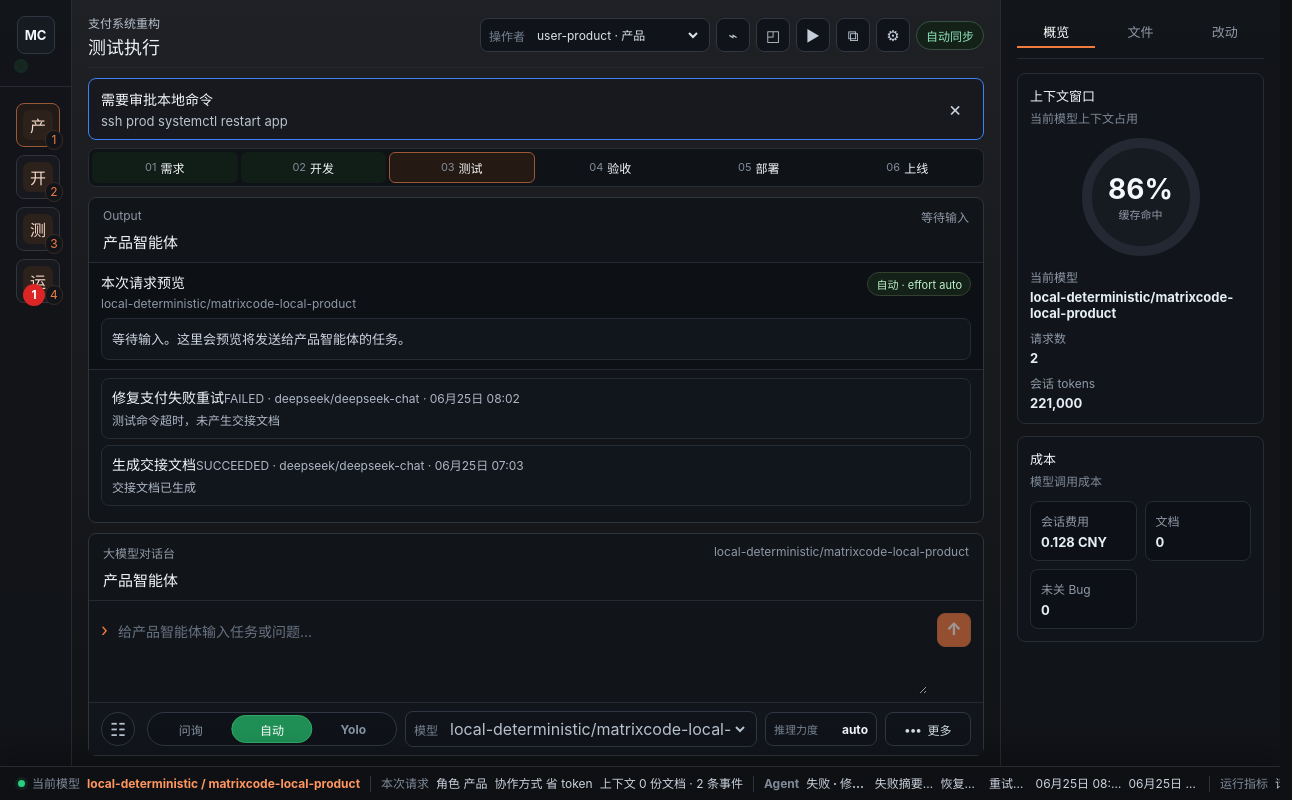
Test: MatrixCode 桌面工作台 › 底部Composer模型请求失败时输出台标题显示请求失败
Check: the text "支付系统重构" is shown, box [88,16,160,33]
Type "请输出实时计划" into the text box named "Agent 对话输入".
click(522, 653); type("请输出实时计划")  # box [118,613,927,694]
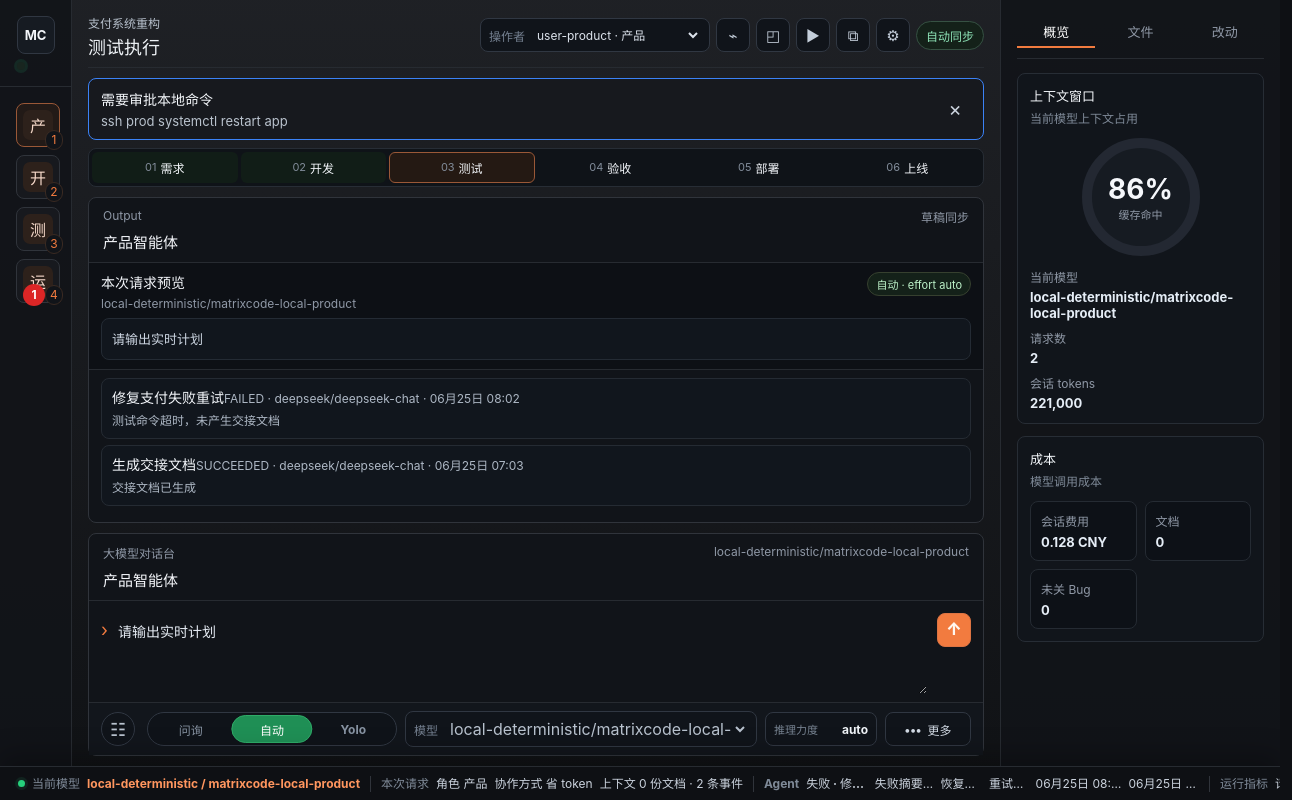
Click the button named "发送给角色智能体".
click(954, 630)  # box [937,613,971,647]
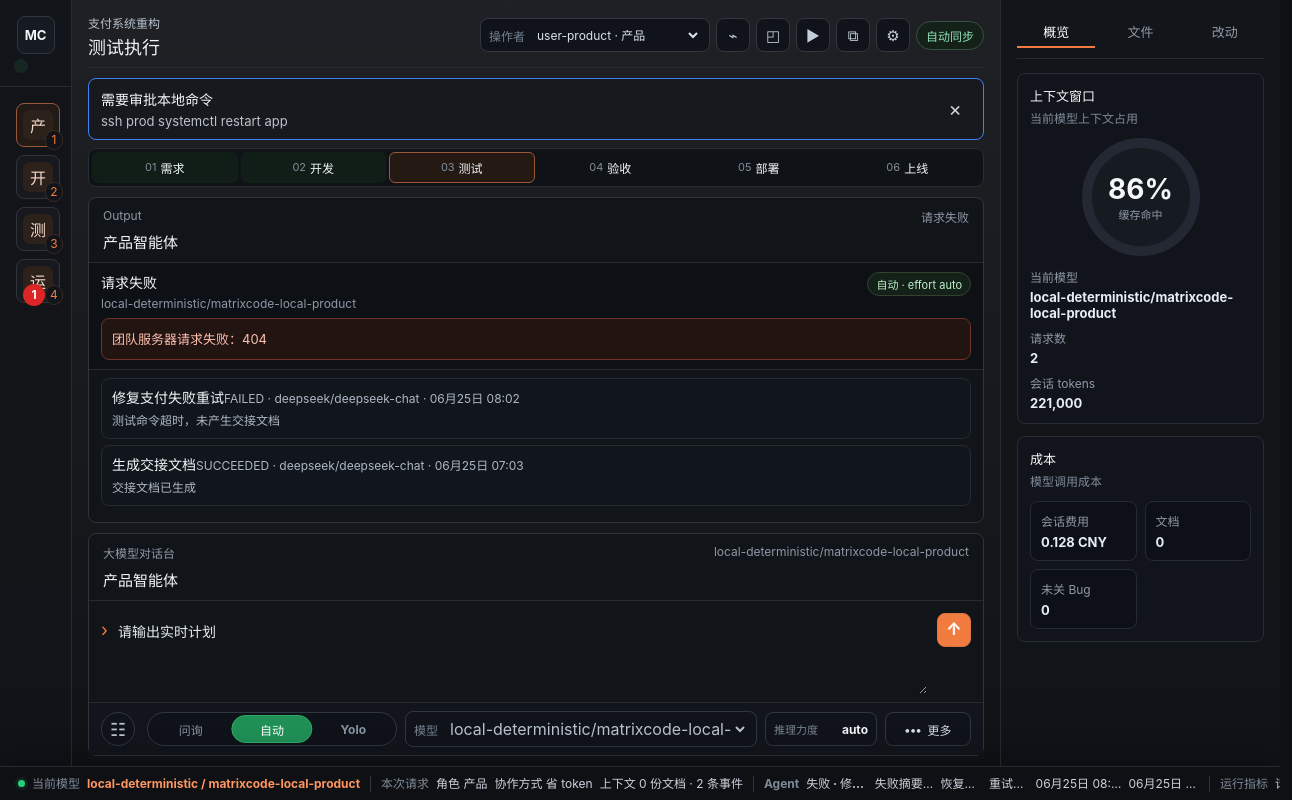
Check: the text "请求失败" in the row of "· effort" is shown, box [101,274,157,291]
Check: the text "团队服务器请求失败：404" is shown, box [101,318,971,360]
